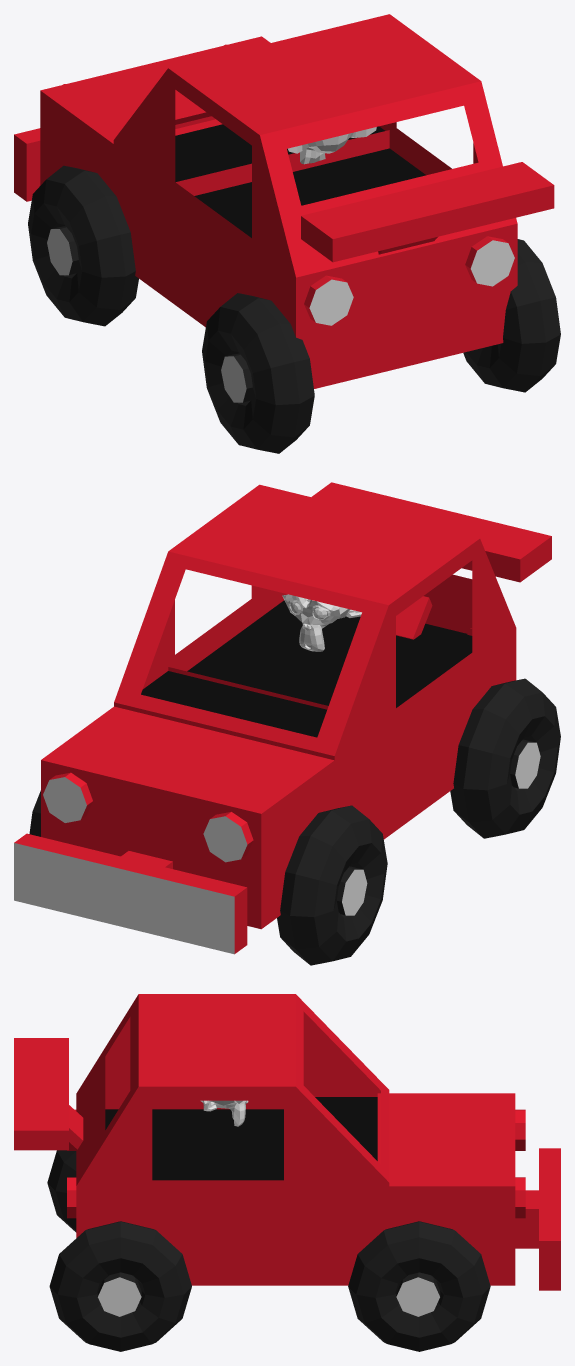
Rendered from car_red.glb.
3 views of the same model, one above another, from view 1: azimuth 30°, elevation 25°; view 2: azimuth 150°, elevation 25°; view 3: azimuth 270°, elevation 25° (orthographic). The views are drawn at different scales.
Parts seen in each view (by area): view 1: Car, LD, LU, RD; view 2: Car, LD, LU; view 3: Car, RU, RD, LD.
Part boxes in pixels (x1,y1,x2,y2): Car: [14, 14, 554, 388]; LD: [202, 293, 314, 453]; LU: [28, 165, 138, 326]; RD: [463, 239, 560, 392]; Car: [14, 482, 551, 954]; LD: [450, 678, 560, 838]; LU: [277, 805, 387, 965]; Car: [14, 994, 560, 1290]; RU: [348, 1221, 490, 1351]; RD: [49, 1221, 191, 1351]; LD: [47, 1150, 76, 1232].
Bounding box in the file's own units: 2.73 × 2.6 × 4.99.
